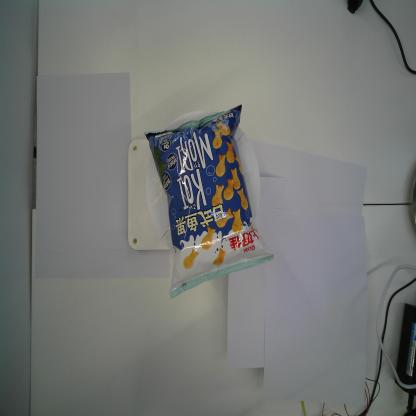Puffed Food: (144, 102, 274, 301)
